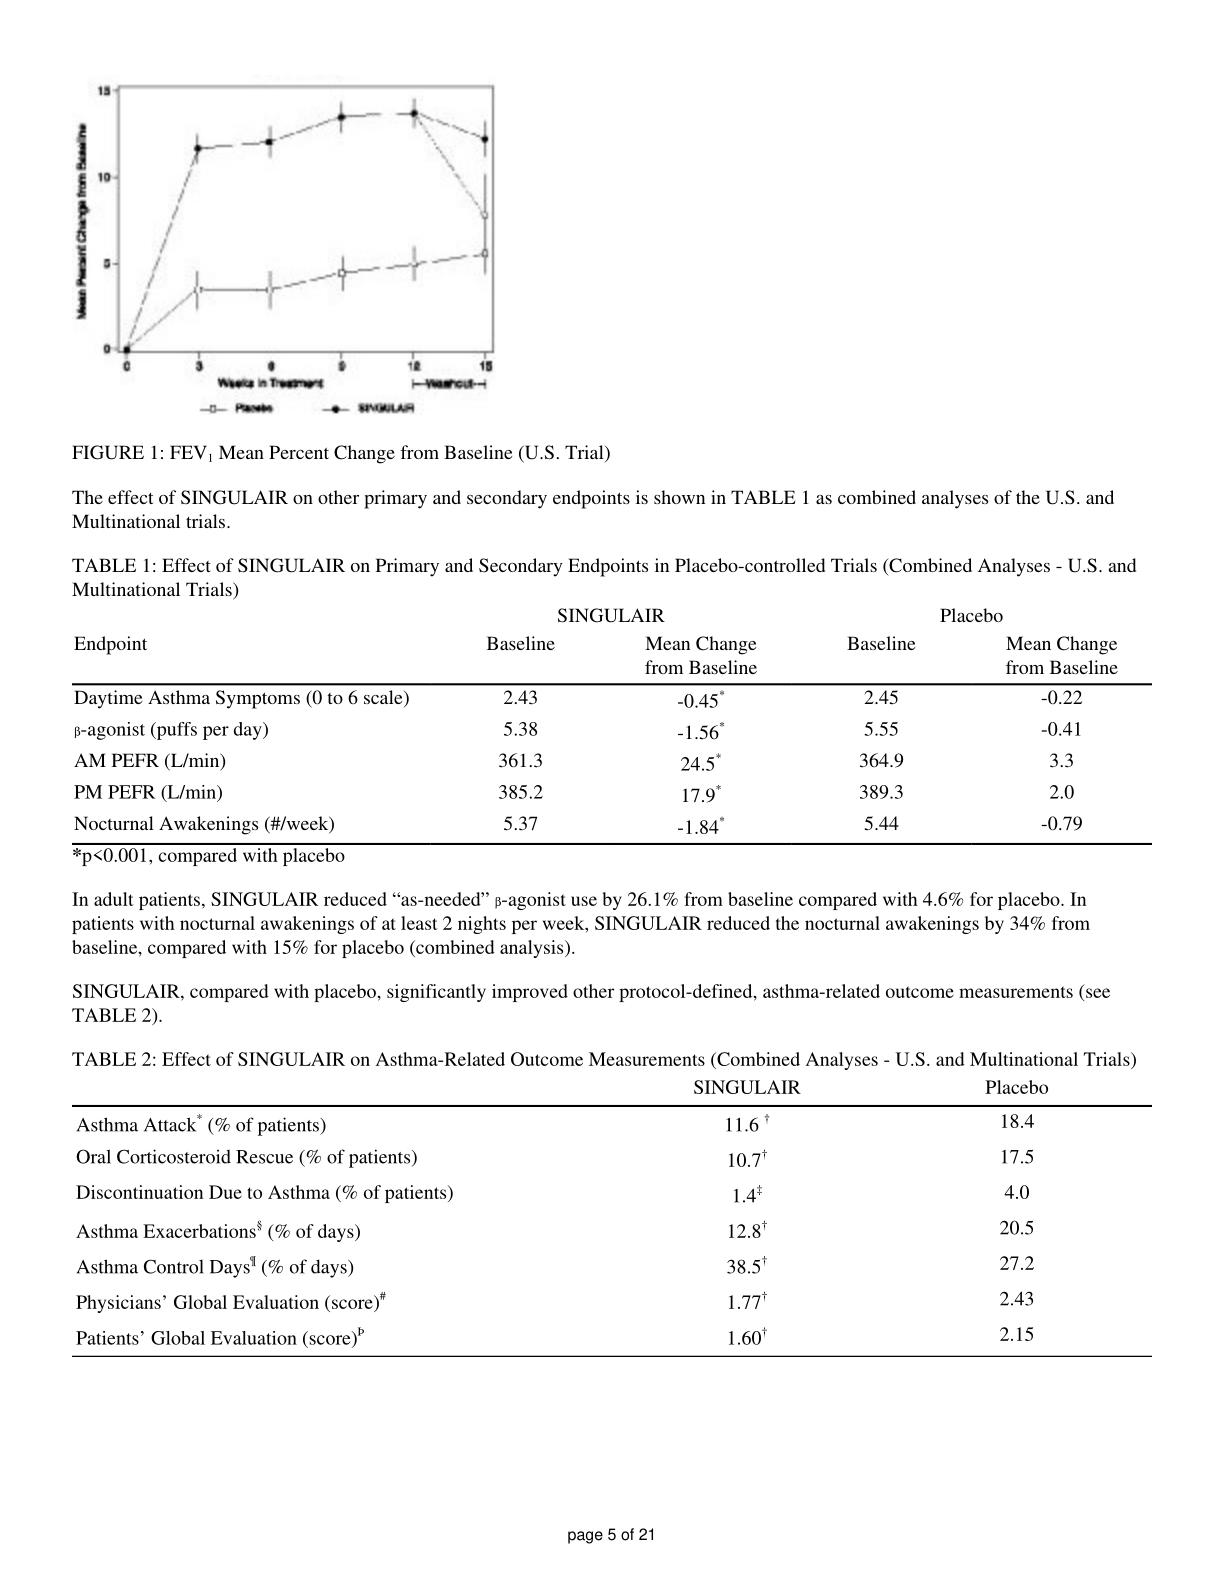partial_lined: (69, 1074, 1153, 1360)
partial_lined_merged_cells: (68, 600, 1155, 847)
